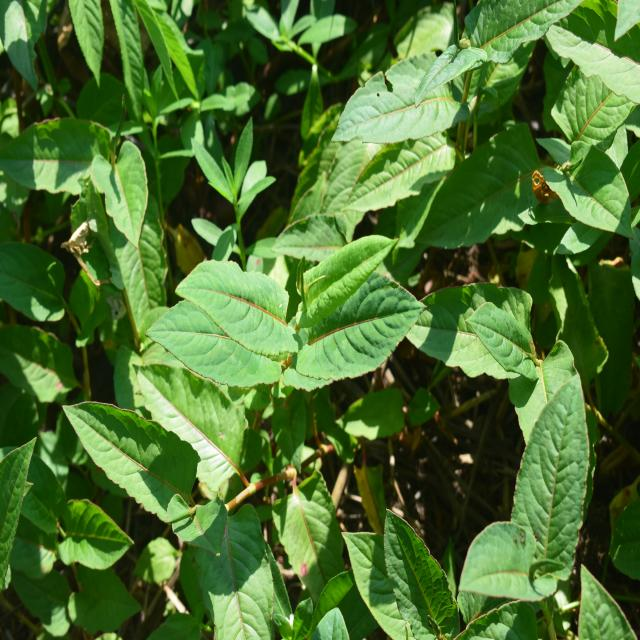Chinese_knotweed: (169, 235, 422, 412)
